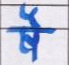ai_matra: (19, 5, 45, 27)
